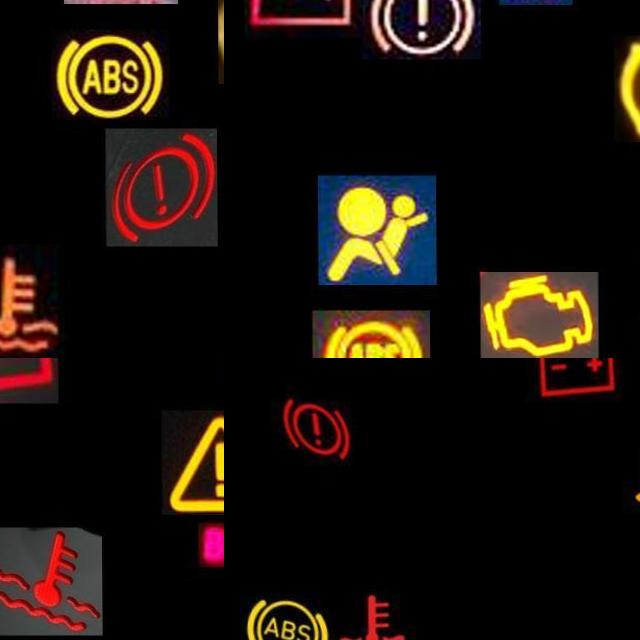Central Warning lamp: (160, 410, 224, 515)
Engine cooling system: (0, 527, 101, 635), (0, 243, 63, 358)
